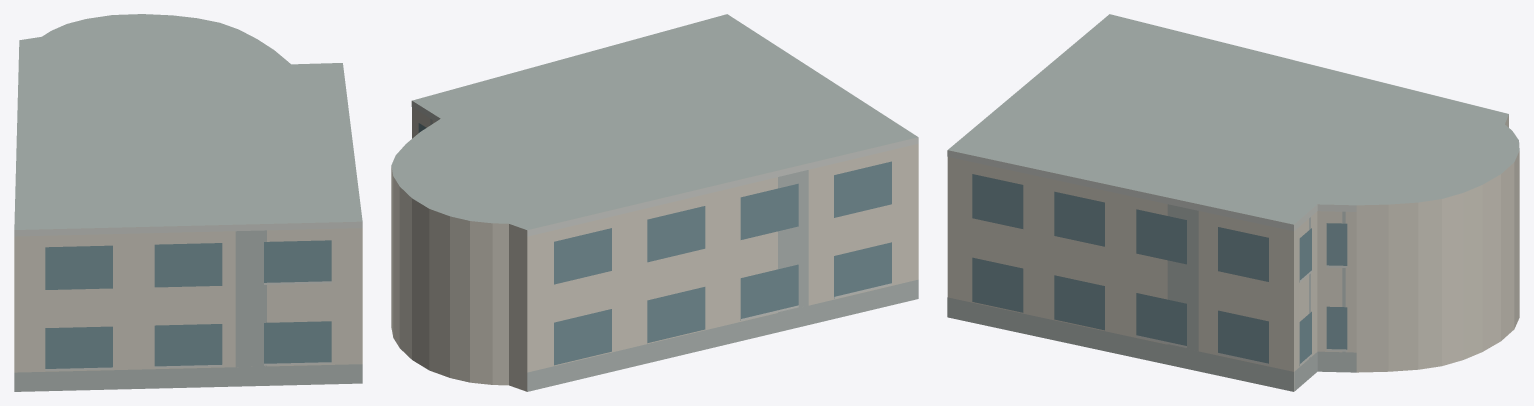
The model's file is survey-upis-32892817.glb.
3 views of the same model, side by side, from view 1: azimuth 30°, elevation 25°; view 2: azimuth 150°, elevation 25°; view 3: azimuth 270°, elevation 25° (orthographic). The views are drawn at different scales.
Parts seen in each view (by area): view 1: survey-upis-32892817.tmp; view 2: survey-upis-32892817.tmp; view 3: survey-upis-32892817.tmp.
Part boxes in pixels (box(x1,y1,x2,y2)): survey-upis-32892817.tmp: box(14, 14, 362, 391); survey-upis-32892817.tmp: box(391, 14, 918, 391); survey-upis-32892817.tmp: box(947, 14, 1519, 391).
Size of the model in its own units: 16.49 by 6.1 by 18.92.
